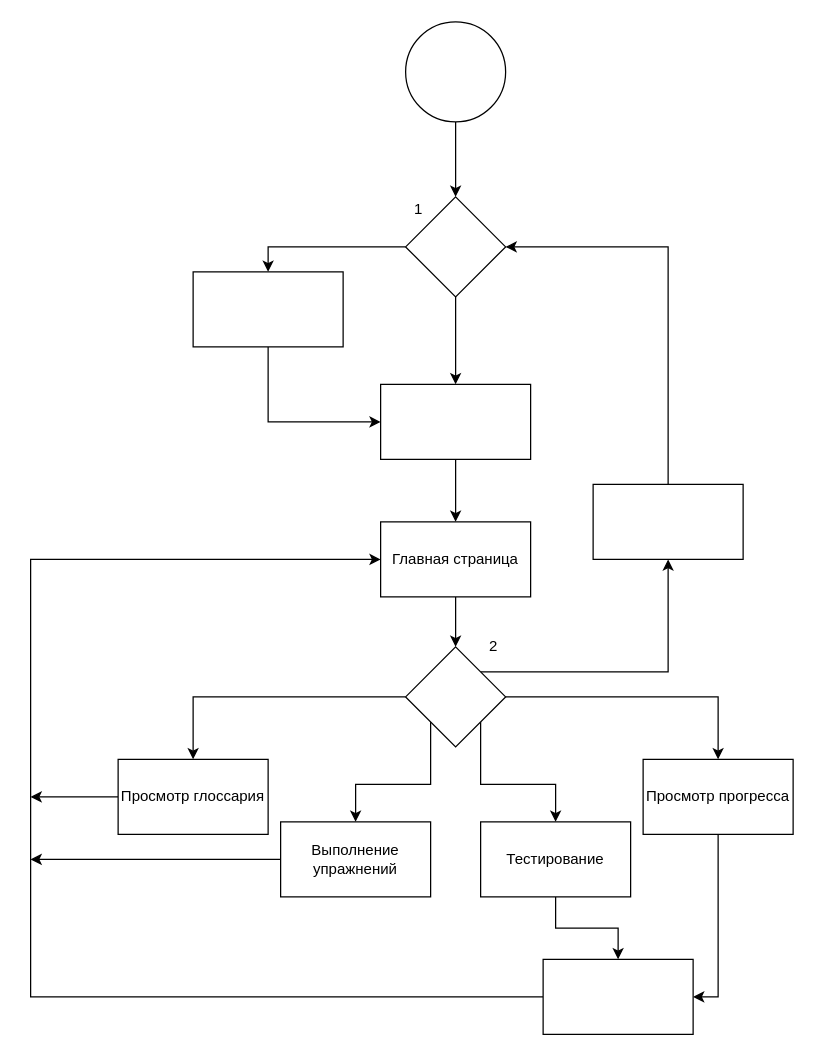
Some shapes in this 815 by 1056 pixel diagram are drawn without their labels. The shapes that lost their labels are listed below. From the top down, each one's box as (x1, y1, x2, y2) in pixels, then its label:
(192, 271, 343, 347): Регистрация
(379, 383, 531, 459): Вход
(592, 483, 743, 559): Выход
(542, 958, 693, 1034): Просмотр результатов тестрования
